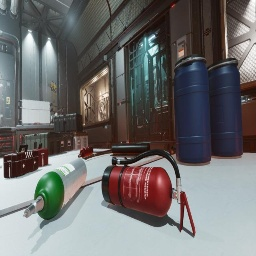0: (23, 158, 87, 220), (16, 150, 32, 153)
EmergencyPhone ,: (6, 95, 10, 104)
FireExtinguisher ]: (102, 149, 196, 235), (78, 146, 93, 158)
FirstAidBox ,: (3, 145, 39, 178), (32, 143, 48, 167)
NitrogenTank ,: (33, 123, 48, 125), (22, 148, 25, 152)
SafetySwitchPanel ,: (176, 35, 188, 62), (73, 132, 74, 132)
